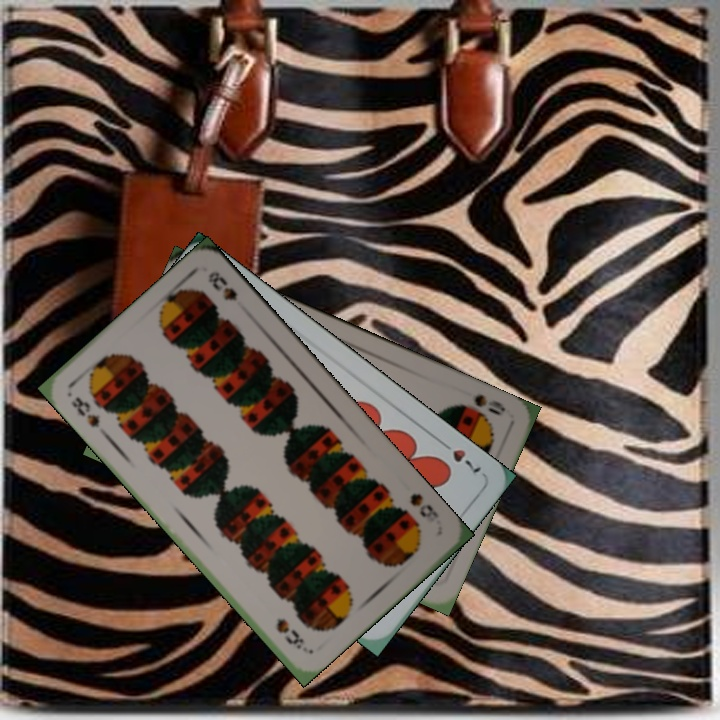H7: (435, 435, 485, 476)
S8: (67, 392, 103, 431), (405, 489, 442, 525)
SO: (450, 390, 508, 422)
